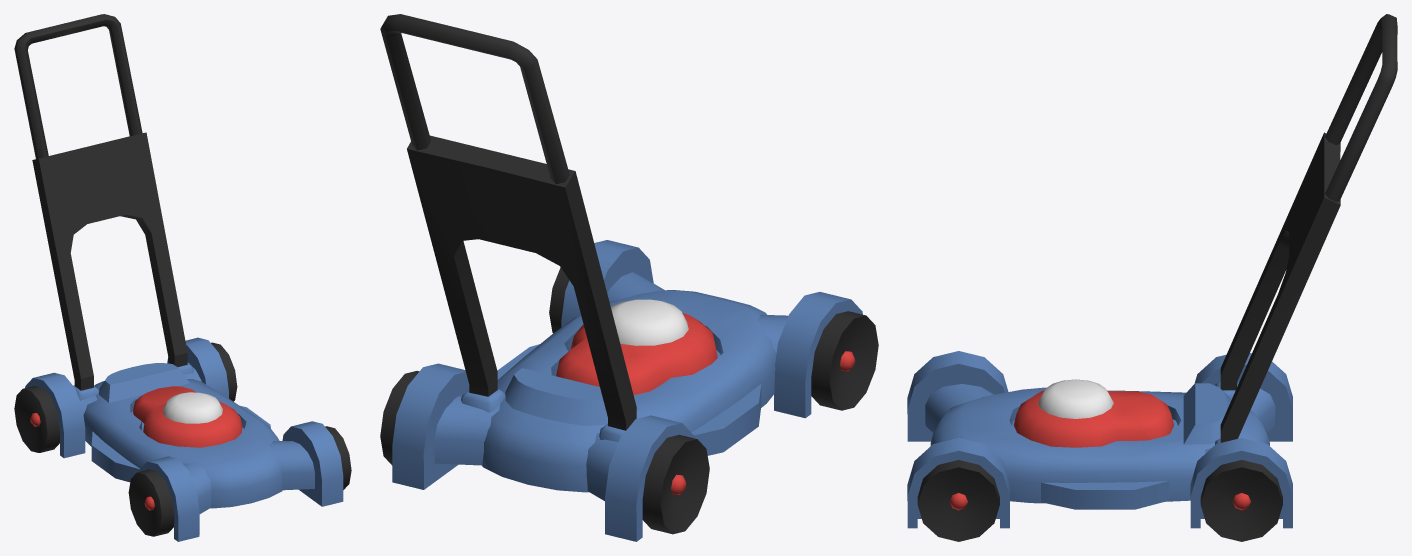
File: LawnMover_01.fbx
The picture shows the model from 3 angles, left to right: view 1: azimuth 30°, elevation 25°; view 2: azimuth 150°, elevation 25°; view 3: azimuth 270°, elevation 25°; orthographic projection. The views are drawn at different scales.
Visible parts, largest first — view 1: LawnMover_01, LawnMover_01_Wheel_FR, LawnMover_01_Wheel_BR, LawnMover_01_Wheel_FL, LawnMover_01_Wheel_BL; view 2: LawnMover_01, LawnMover_01_Wheel_BR, LawnMover_01_Wheel_FR, LawnMover_01_Wheel_BL, LawnMover_01_Wheel_FL; view 3: LawnMover_01, LawnMover_01_Wheel_FL, LawnMover_01_Wheel_BL.
Part boxes in pixels (left/top/right/bottom): LawnMover_01: left=14, top=14, right=343, bottom=541; LawnMover_01_Wheel_FR: left=128, top=469, right=174, bottom=536; LawnMover_01_Wheel_BR: left=14, top=386, right=59, bottom=452; LawnMover_01_Wheel_FL: left=325, top=426, right=351, bottom=489; LawnMover_01_Wheel_BL: left=211, top=342, right=237, bottom=401; LawnMover_01: left=380, top=14, right=862, bottom=541; LawnMover_01_Wheel_BR: left=642, top=434, right=709, bottom=534; LawnMover_01_Wheel_FR: left=811, top=311, right=878, bottom=410; LawnMover_01_Wheel_BL: left=380, top=371, right=419, bottom=465; LawnMover_01_Wheel_FL: left=549, top=267, right=569, bottom=333; LawnMover_01: left=907, top=14, right=1397, bottom=528; LawnMover_01_Wheel_FL: left=917, top=460, right=999, bottom=541; LawnMover_01_Wheel_BL: left=1200, top=460, right=1282, bottom=541.
Bounding box in the file's own units: 0.4624 × 0.8411 × 0.8353.
